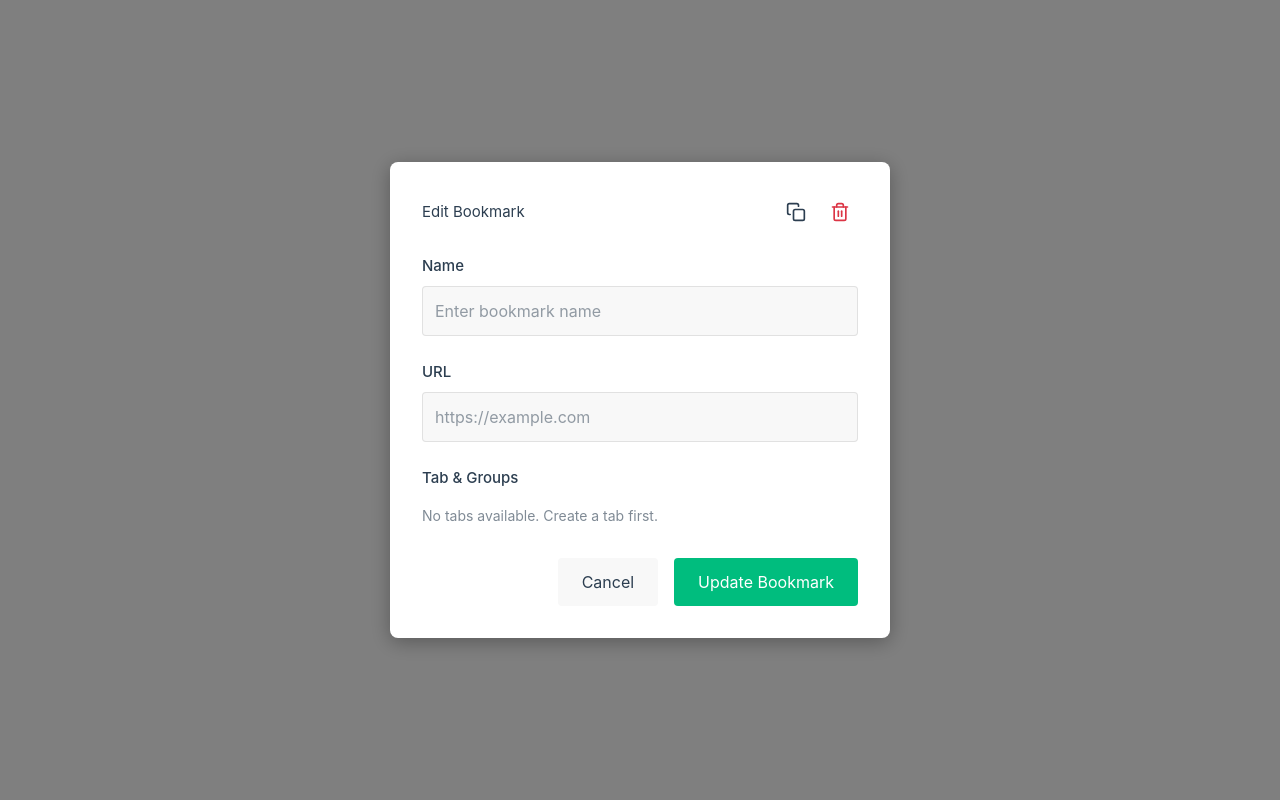
Test case: EditBookmarkForm › resets form to original values when cancel is clicked
In the field with id "bookmark-name": coordinates (640, 311) [422,286,858,336], type "Changed Name"
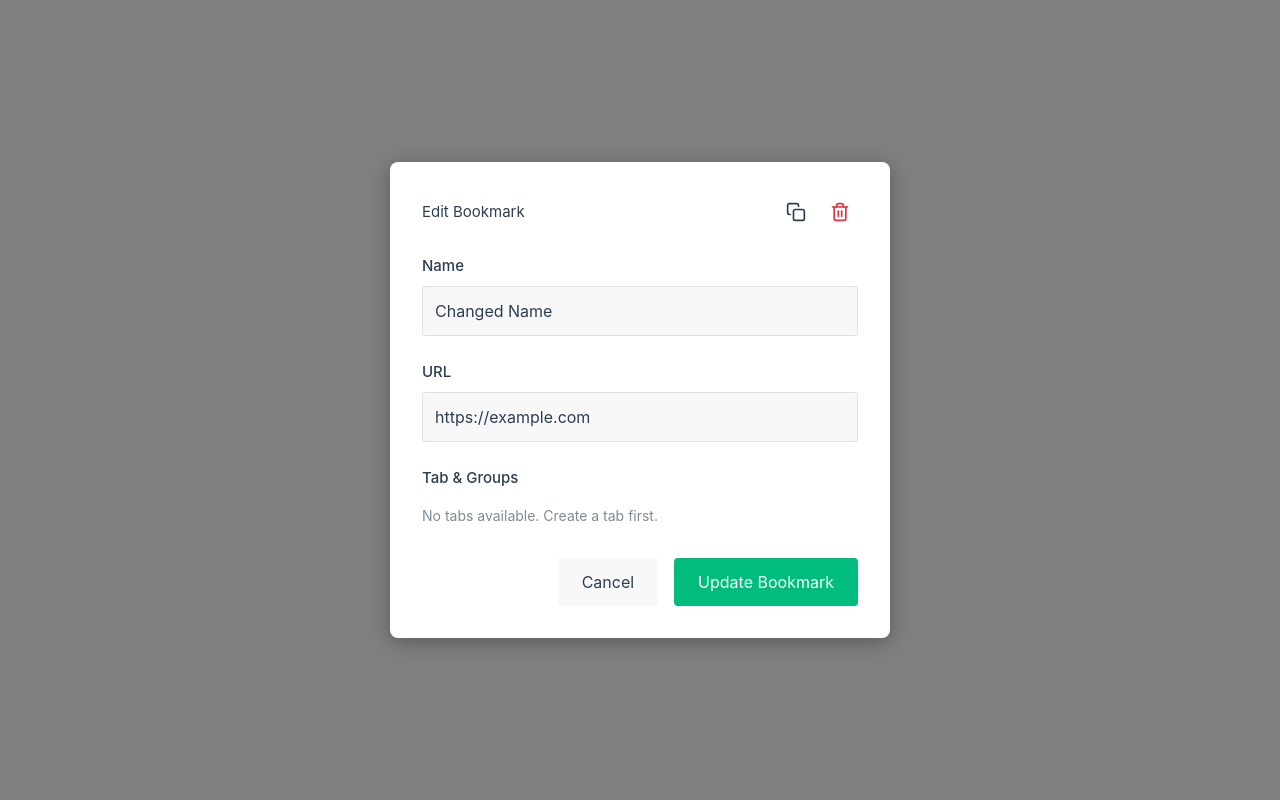
In the field with id "bookmark-url": coordinates (640, 417) [422,392,858,442], type "https://changed.com"
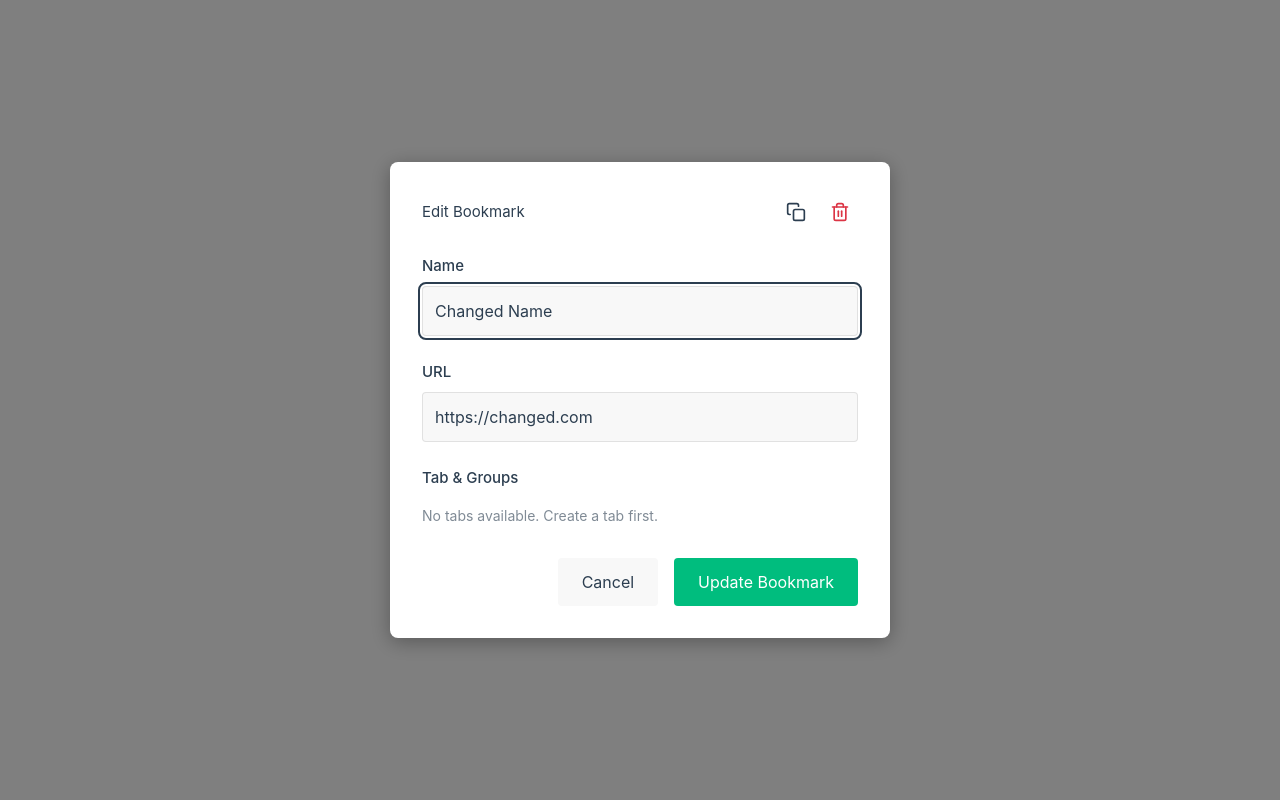
Click the button "Cancel": coordinates (608, 582) [558,558,658,606]
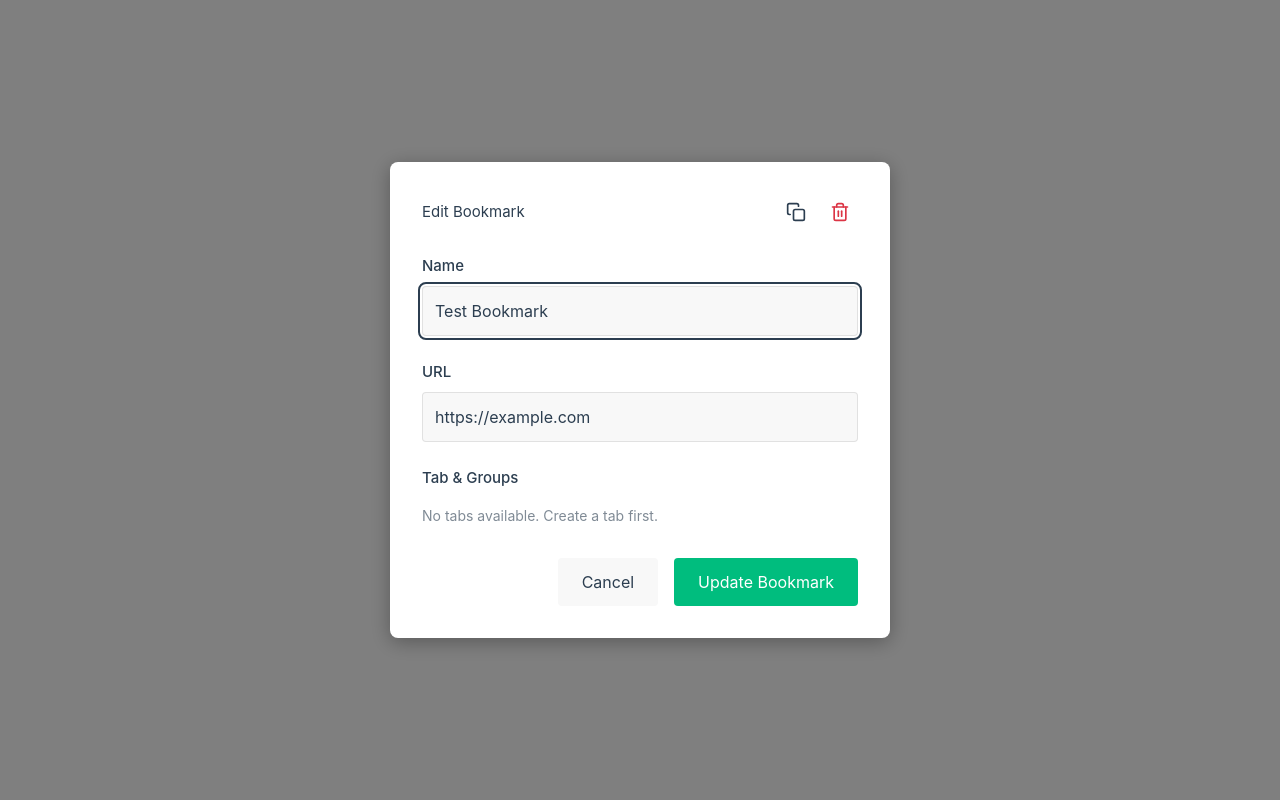
Check: the field with id "bookmark-name" holds "Test Bookmark", box [422,286,858,336]
Check: the field with id "bookmark-url" holds "https://example.com", box [422,392,858,442]
